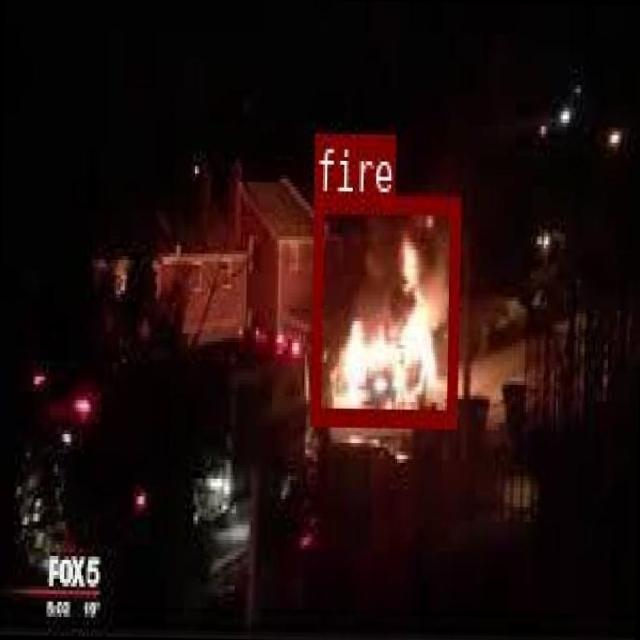fire: (309, 193, 458, 424)
